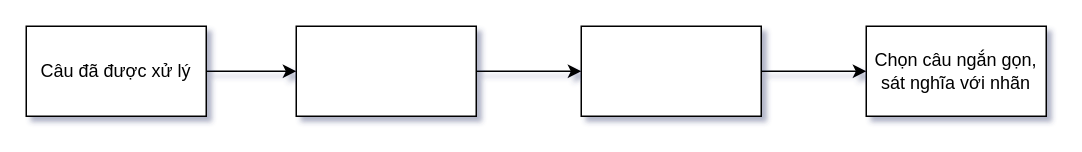
Some shapes in this 1082 by 152 pixel diagram are drawn without their labels. Here are the shapes that lost their labels. From the top down, the centre of each, then its label:
pixel 385 70: Loại bỏ các stop-word
pixel 670 70: Đánh giá TF-IDF của các từ
